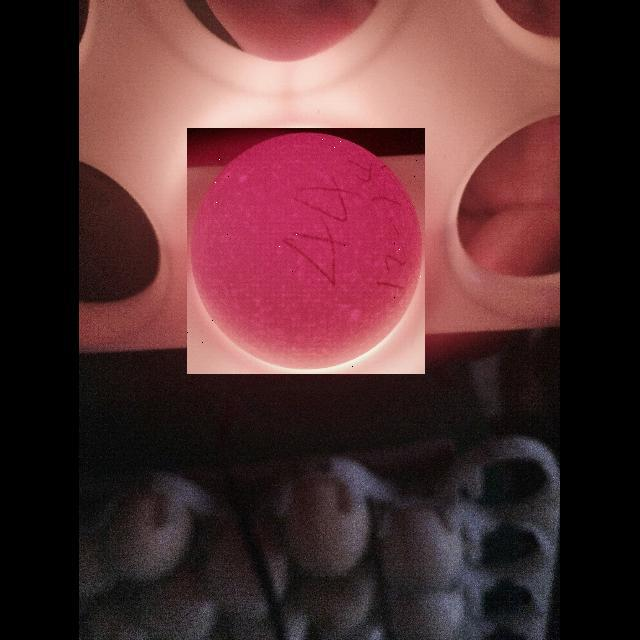Infertile: (187, 128, 425, 374)
